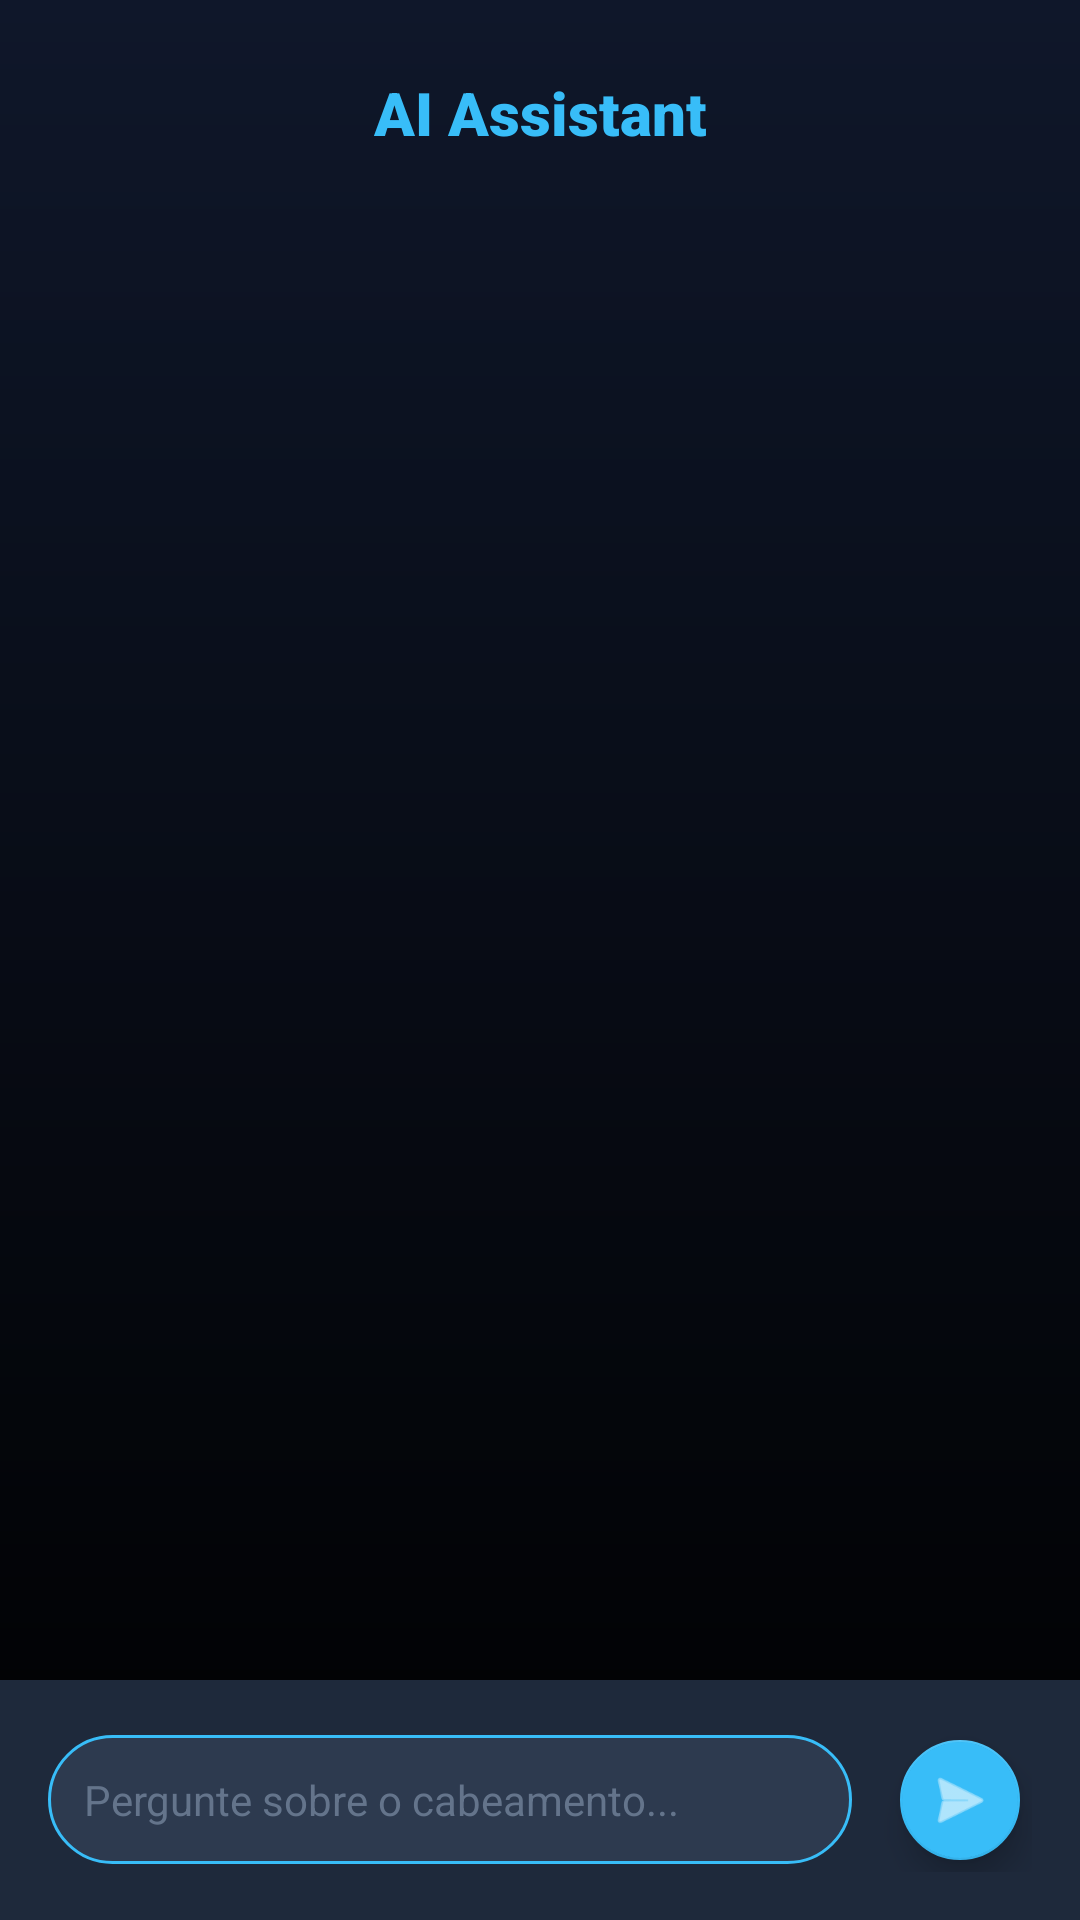

Named icons in this screenshot (1080px x 1920px) and their centers, [x,y]:
Enviar: [960,1800]
